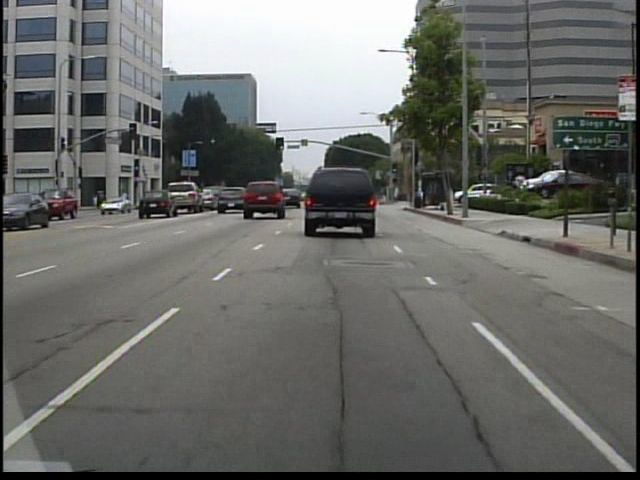person: (118, 188, 131, 211), (392, 183, 404, 205)
